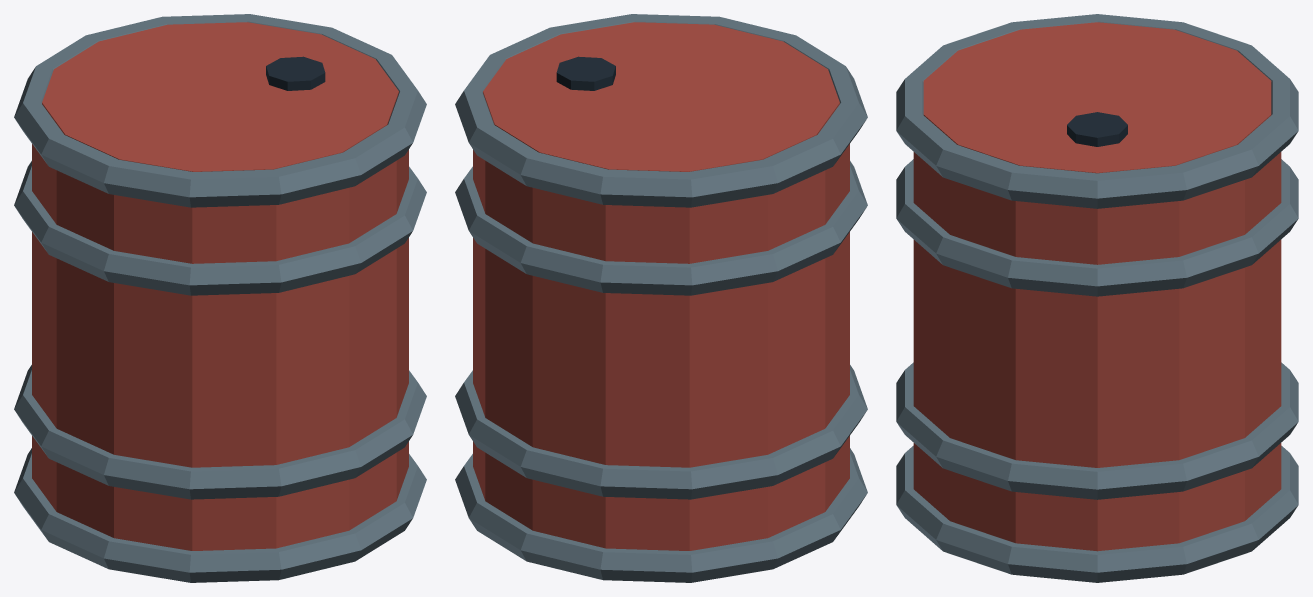
The model's file is props-barrel-metal.lod0.glb.
3 renders of one model, left to right at view 1: azimuth 30°, elevation 25°; view 2: azimuth 150°, elevation 25°; view 3: azimuth 270°, elevation 25°, orthographic.
Visible parts, largest first — view 1: props-barrel-metal__body; view 2: props-barrel-metal__body; view 3: props-barrel-metal__body.
Boxes of the visible parts, x1=… form: props-barrel-metal__body: x1=14, y1=14, x2=426, y2=582; props-barrel-metal__body: x1=455, y1=14, x2=867, y2=582; props-barrel-metal__body: x1=896, y1=14, x2=1298, y2=582.
Size of the model in its own units: 0.81 by 0.8903 by 0.7897.
